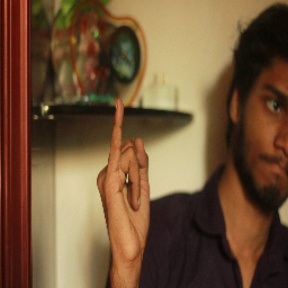I: (93, 99, 156, 239)
